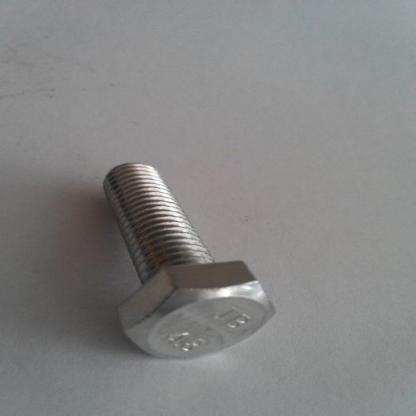FOD: (96, 157, 277, 364)
